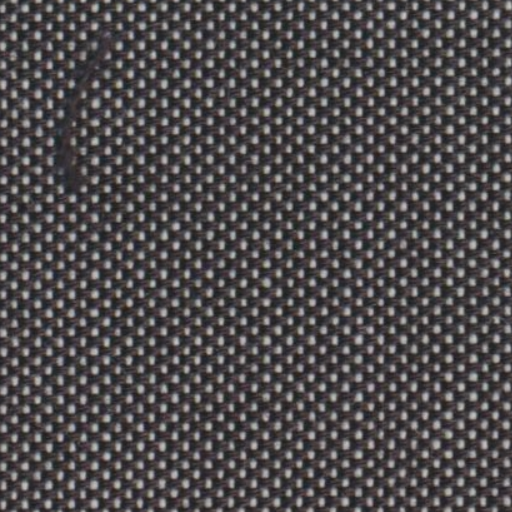DuanSha: (52, 19, 130, 198)
